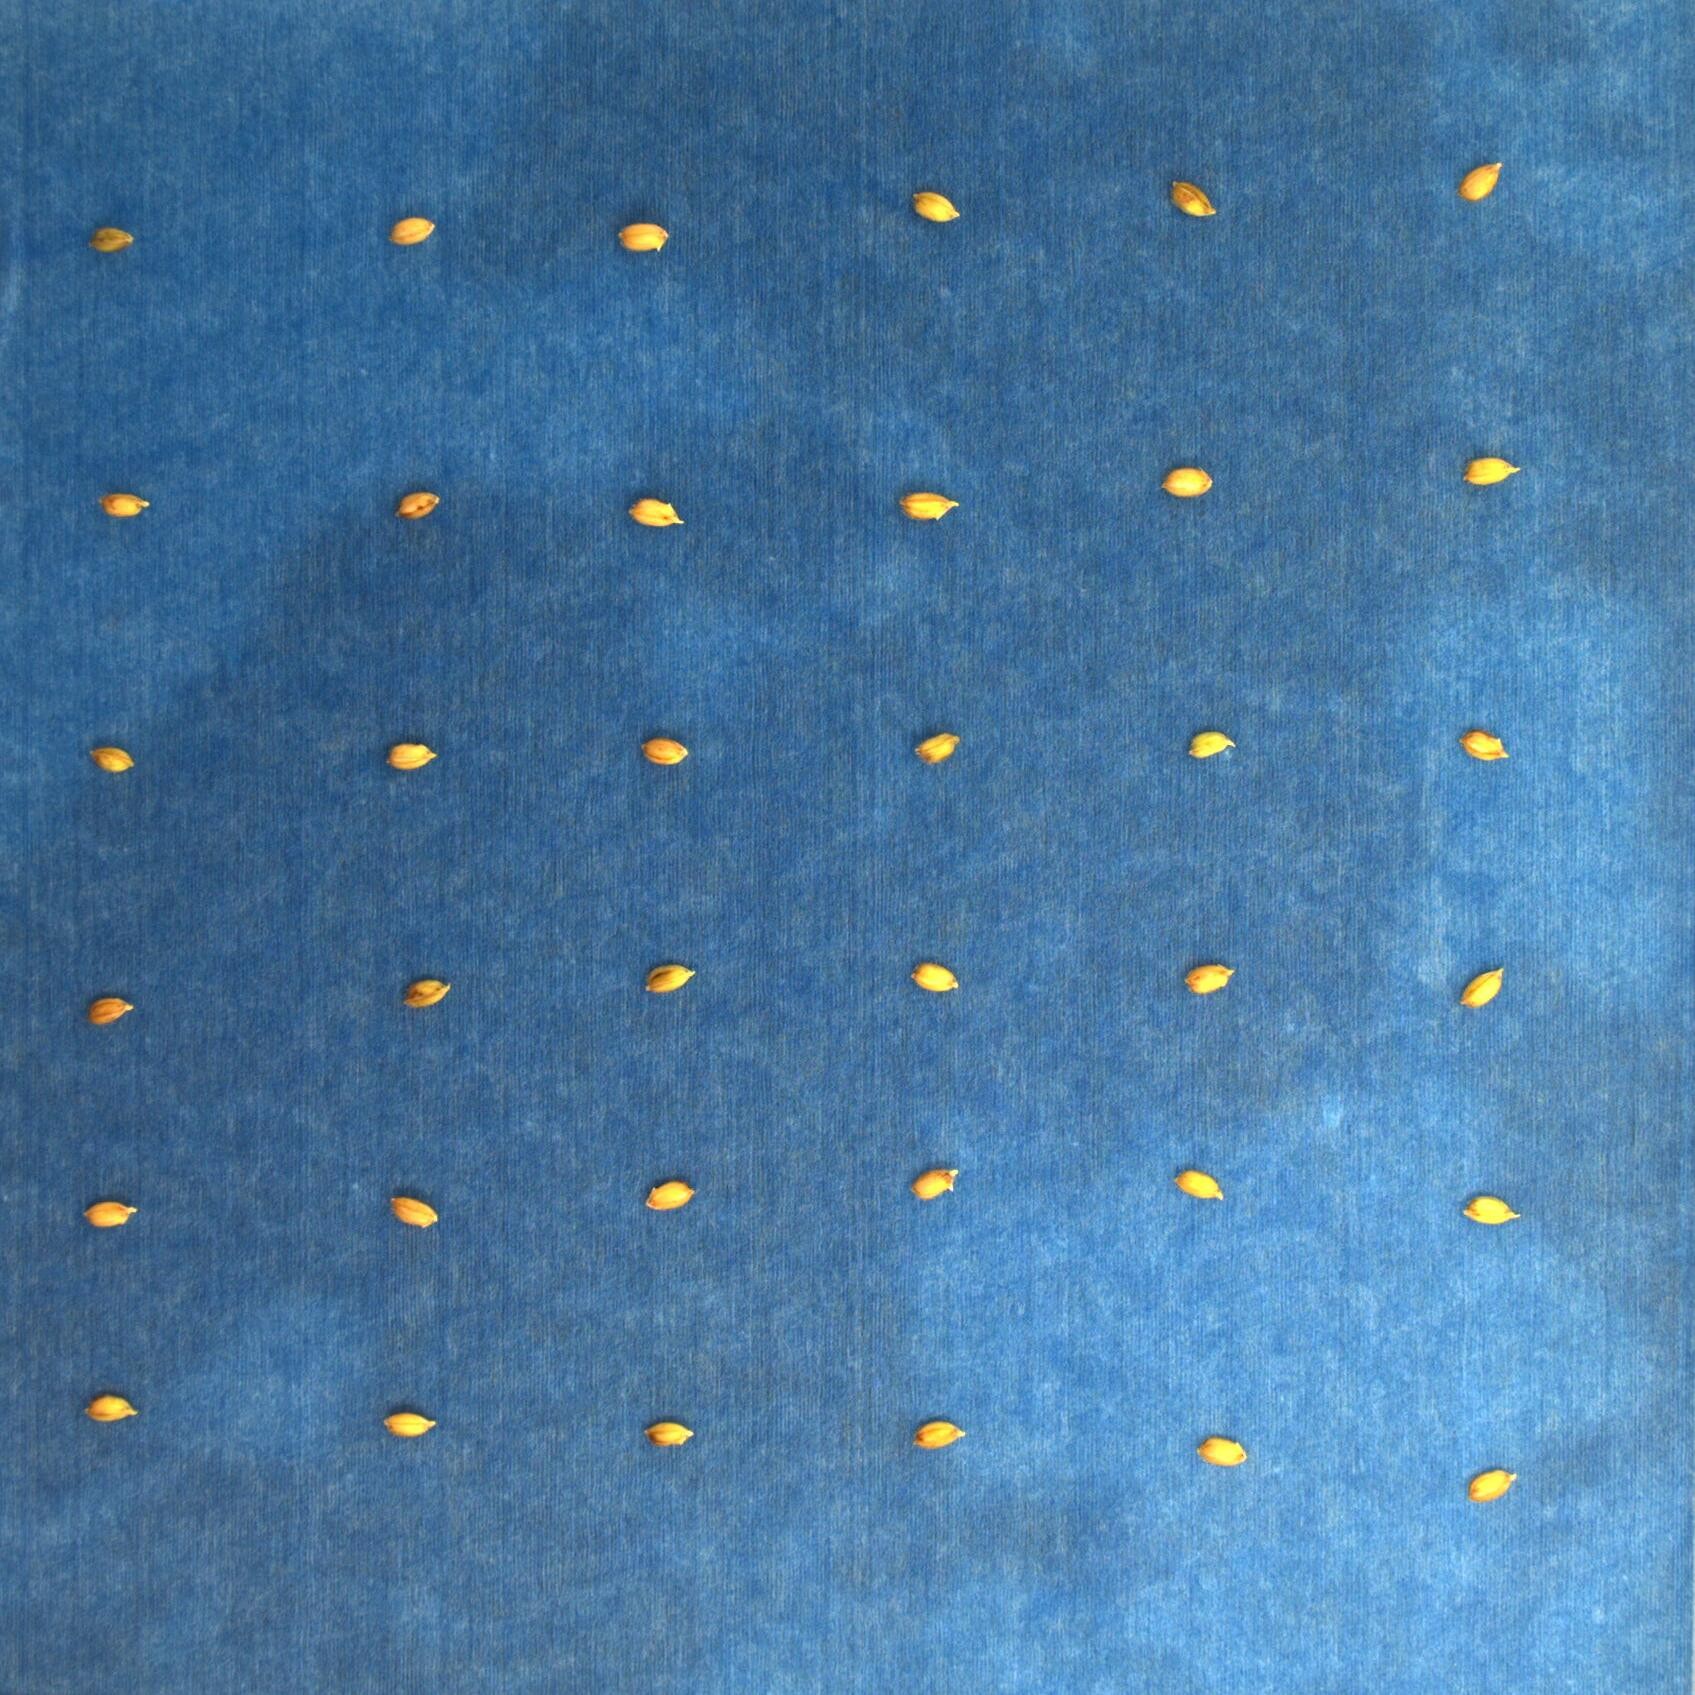not sprout: (78, 1194, 140, 1234), (1454, 962, 1503, 1010), (908, 1156, 959, 1201), (1461, 1192, 1520, 1229), (1172, 1167, 1223, 1208), (386, 1191, 438, 1231), (910, 955, 962, 993), (896, 486, 958, 518), (643, 958, 697, 993), (1461, 456, 1523, 487), (643, 1416, 692, 1454), (379, 1406, 435, 1440), (1464, 1468, 1524, 1499), (96, 486, 154, 518), (1197, 1434, 1251, 1468), (906, 1417, 965, 1448), (81, 742, 137, 775), (1167, 175, 1214, 214), (615, 220, 671, 251), (632, 494, 685, 526), (400, 976, 453, 1009), (1453, 733, 1507, 764), (640, 1180, 694, 1211), (1461, 165, 1506, 202), (1184, 961, 1236, 993), (908, 726, 958, 759), (388, 214, 433, 248), (1161, 464, 1212, 494), (88, 993, 137, 1024), (85, 1389, 133, 1420), (394, 489, 442, 518), (386, 742, 439, 767), (916, 194, 962, 220), (88, 227, 137, 251), (640, 739, 688, 764), (1184, 733, 1232, 757)
